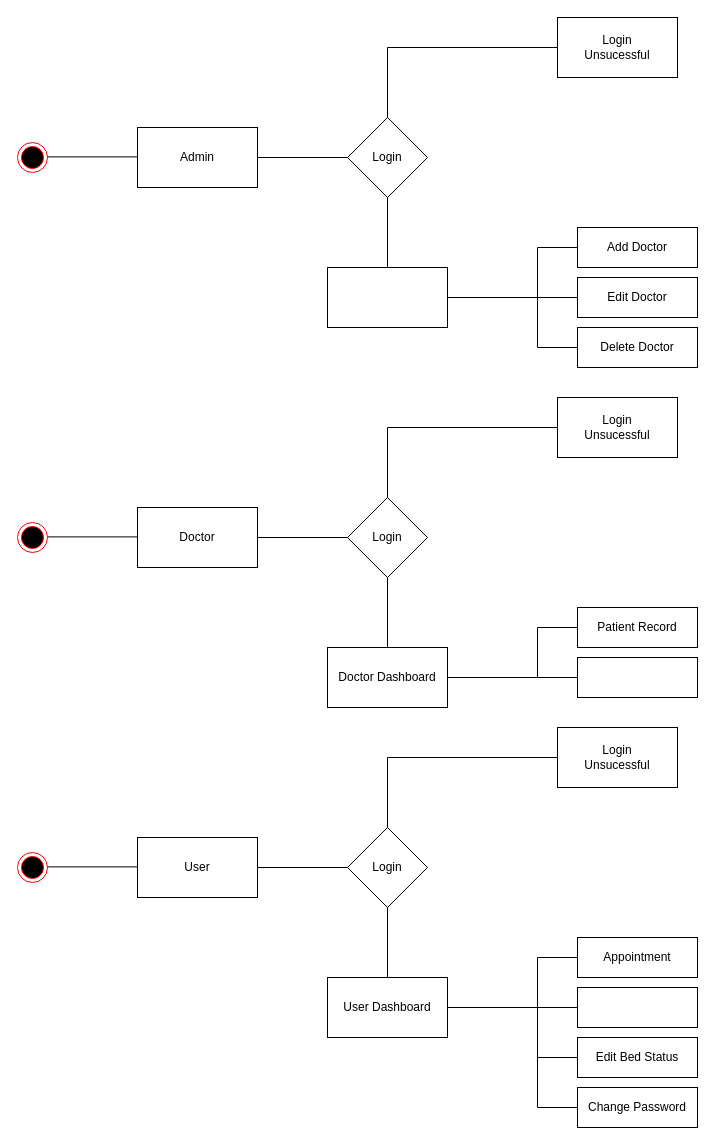
This 715x1145 diagram has some shape labels left out. The shapes that lost their labels are listed below. From the top down, each one's centre as x and y in pixels, then its label:
the point at 387,297: Login as Admin
the point at 637,677: Give Comment
the point at 637,1007: View Appointment
